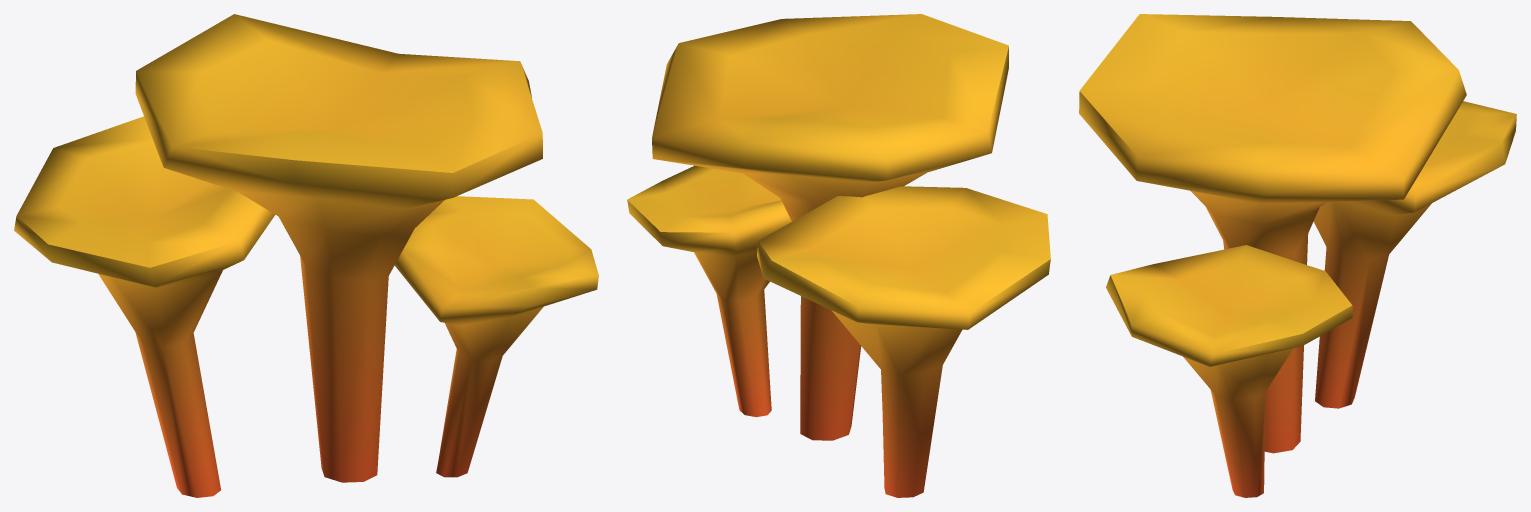
The model's file is mushroom_cibarius_3.obj.
3 views of the same model, side by side, from view 1: azimuth 30°, elevation 25°; view 2: azimuth 150°, elevation 25°; view 3: azimuth 270°, elevation 25° (orthographic). The views are drawn at different scales.
Visible parts, largest first — view 1: mushroom_cibarius_3; view 2: mushroom_cibarius_3; view 3: mushroom_cibarius_3.
Boxes of the visible parts, x1,y1,x2,y2 form: mushroom_cibarius_3: (14, 14, 598, 497); mushroom_cibarius_3: (627, 14, 1050, 497); mushroom_cibarius_3: (1079, 14, 1516, 497).
Size of the model in its own units: 0.446 by 0.36 by 0.3742.
